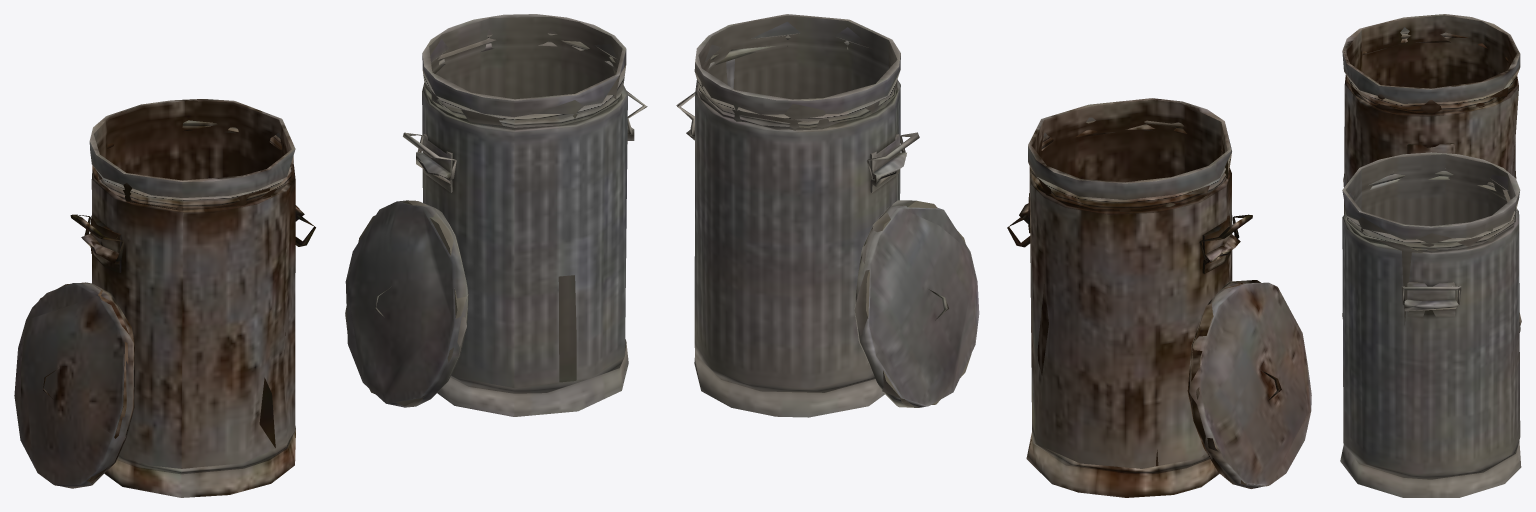
Rendered from metal_trash_can.glb.
The picture shows the model from 3 angles, left to right: view 1: azimuth 30°, elevation 25°; view 2: azimuth 150°, elevation 25°; view 3: azimuth 270°, elevation 25°; orthographic projection. The views are drawn at different scales.
Parts seen in each view (by area): view 1: metal_trash_can, metal_trash_can_rust, metal_trash_can_lid, metal_trash_can_rust_lid; view 2: metal_trash_can, metal_trash_can_rust, metal_trash_can_lid, metal_trash_can_rust_lid; view 3: metal_trash_can, metal_trash_can_rust, metal_trash_can_handle_right.
Part boxes in pixels (left/top/right/bottom): metal_trash_can: left=416, top=14, right=634, bottom=416; metal_trash_can_rust: left=81, top=99, right=304, bottom=497; metal_trash_can_lid: left=345, top=200, right=468, bottom=407; metal_trash_can_rust_lid: left=14, top=282, right=135, bottom=488; metal_trash_can: left=686, top=14, right=906, bottom=417; metal_trash_can_rust: left=1019, top=98, right=1240, bottom=497; metal_trash_can_lid: left=854, top=200, right=979, bottom=407; metal_trash_can_rust_lid: left=1187, top=280, right=1311, bottom=488; metal_trash_can: left=1340, top=152, right=1521, bottom=497; metal_trash_can_rust: left=1342, top=14, right=1521, bottom=325; metal_trash_can_handle_right: left=1401, top=286, right=1461, bottom=305.
Size of the model in its own units: 1.78 by 0.9062 by 0.5496.
3 materials, 3 textured.
